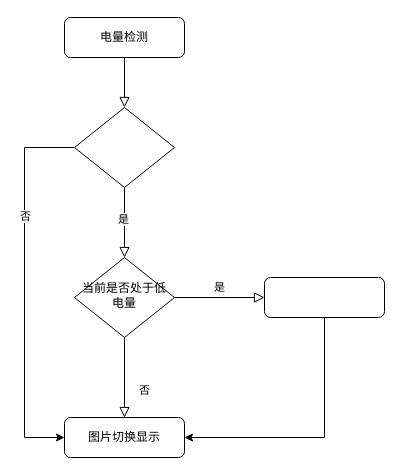
The diagram is 402 pixels wide and 475 high, and some of its shapes have lost their labels. Here are the shapes that lost their labels. From the top down, the centre of each, then its label:
the point at 124,147: 是否兼容低电量
the point at 324,297: 更新显示效果
